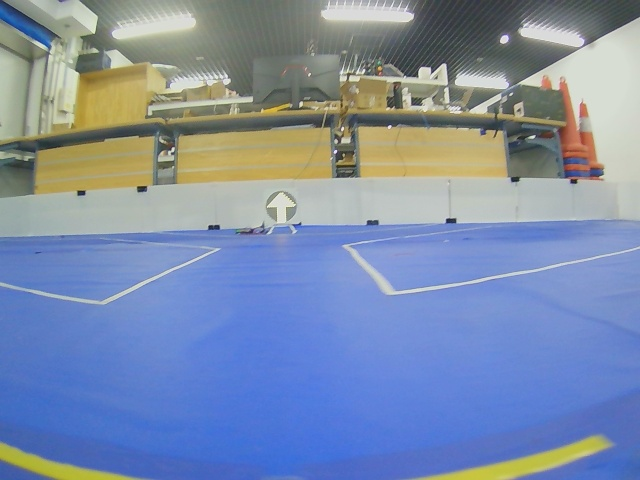straight_yellow: (266, 191, 297, 224)
